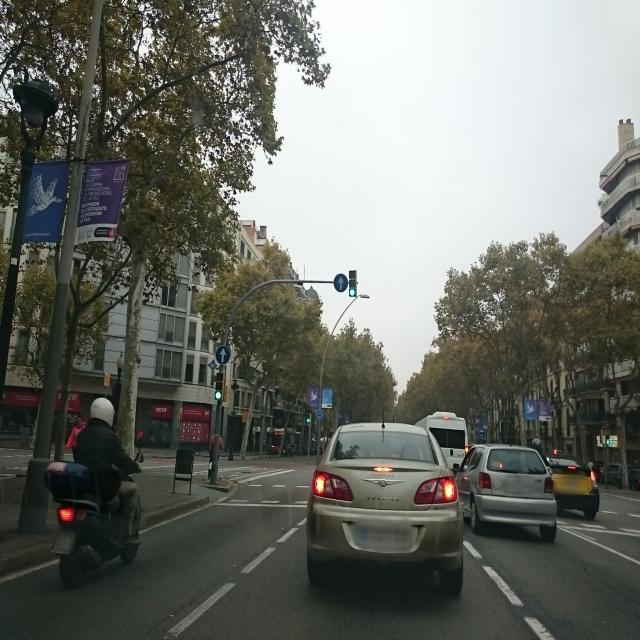bike: (44, 442, 146, 590)
car: (306, 416, 464, 594), (454, 443, 558, 542), (541, 454, 600, 520), (415, 412, 467, 474), (601, 462, 639, 487)
